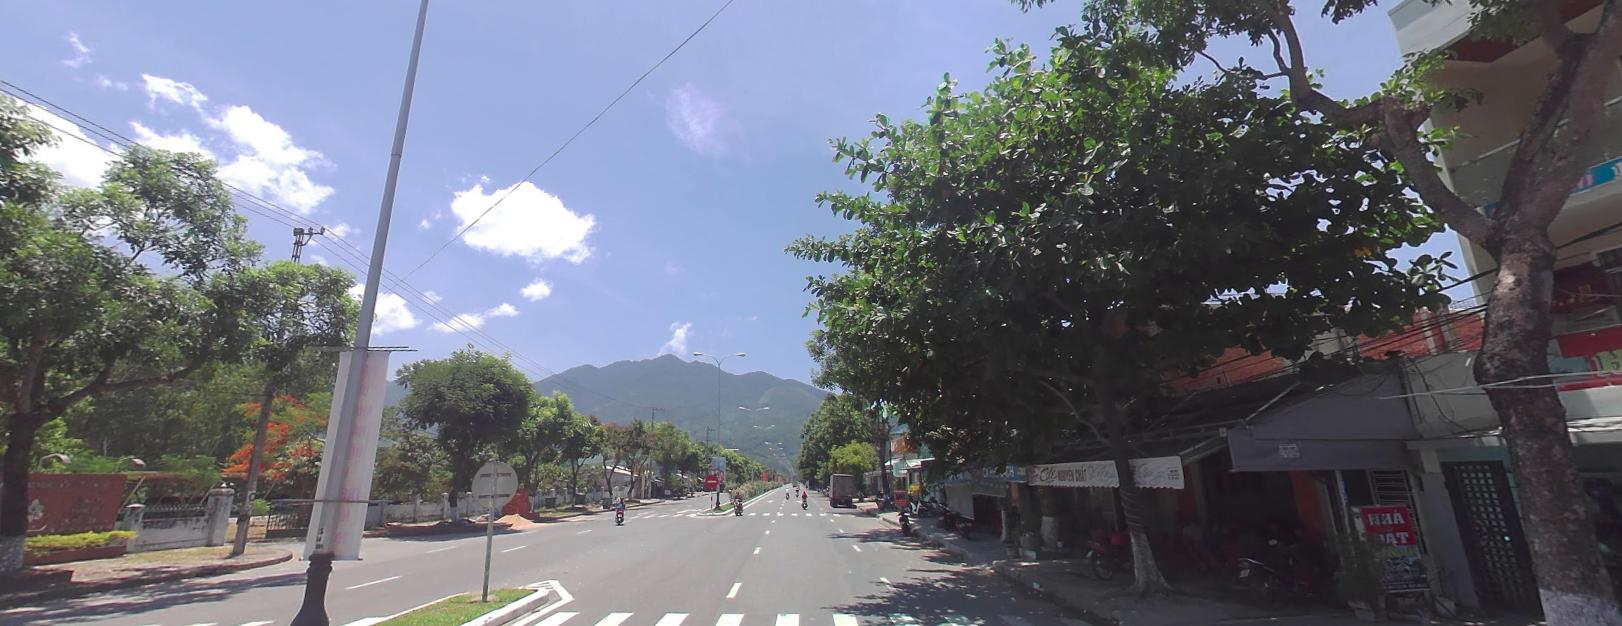Cam nguoc chieu: (704, 473, 718, 486)
